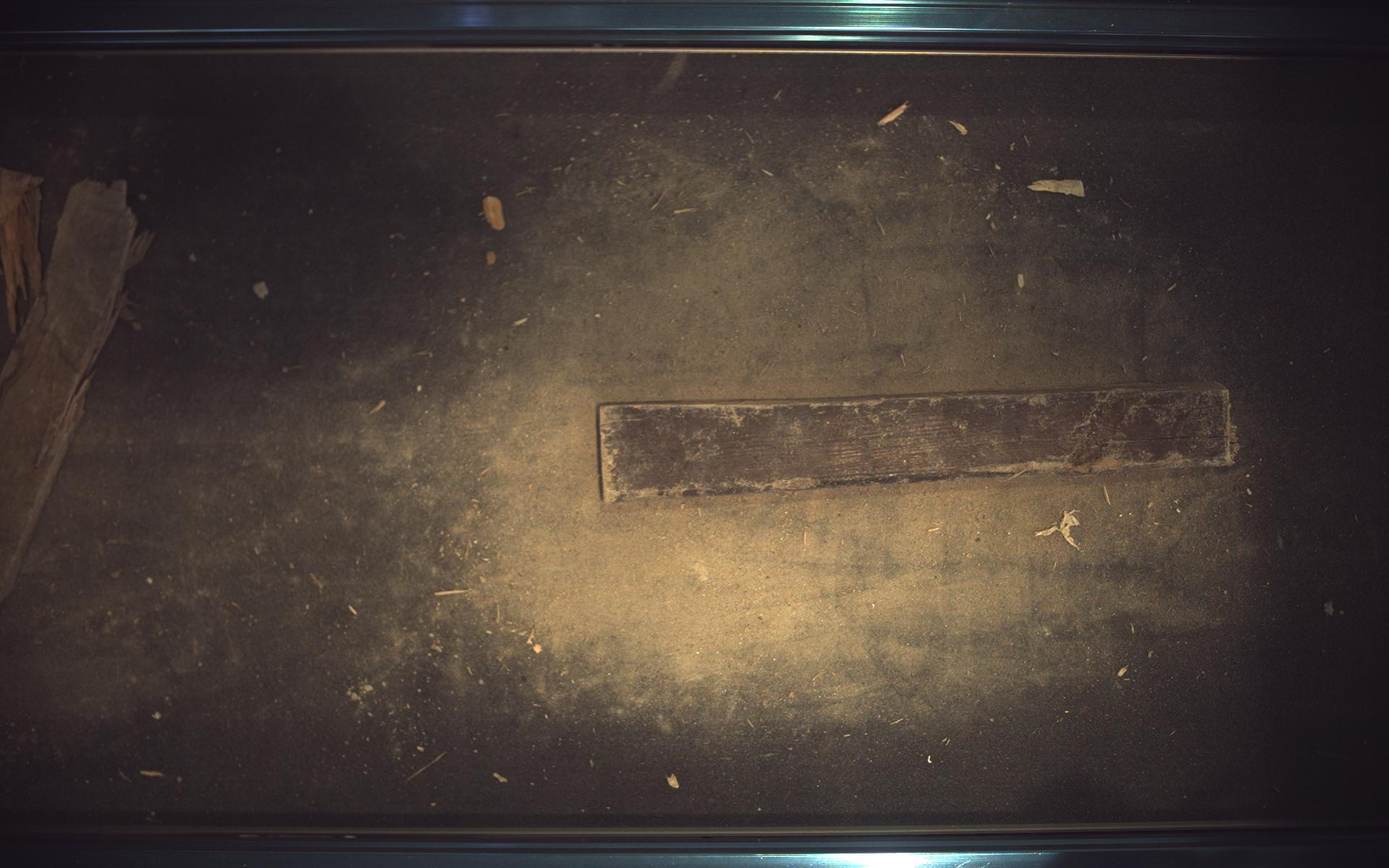wood: (598, 384, 1240, 503)
